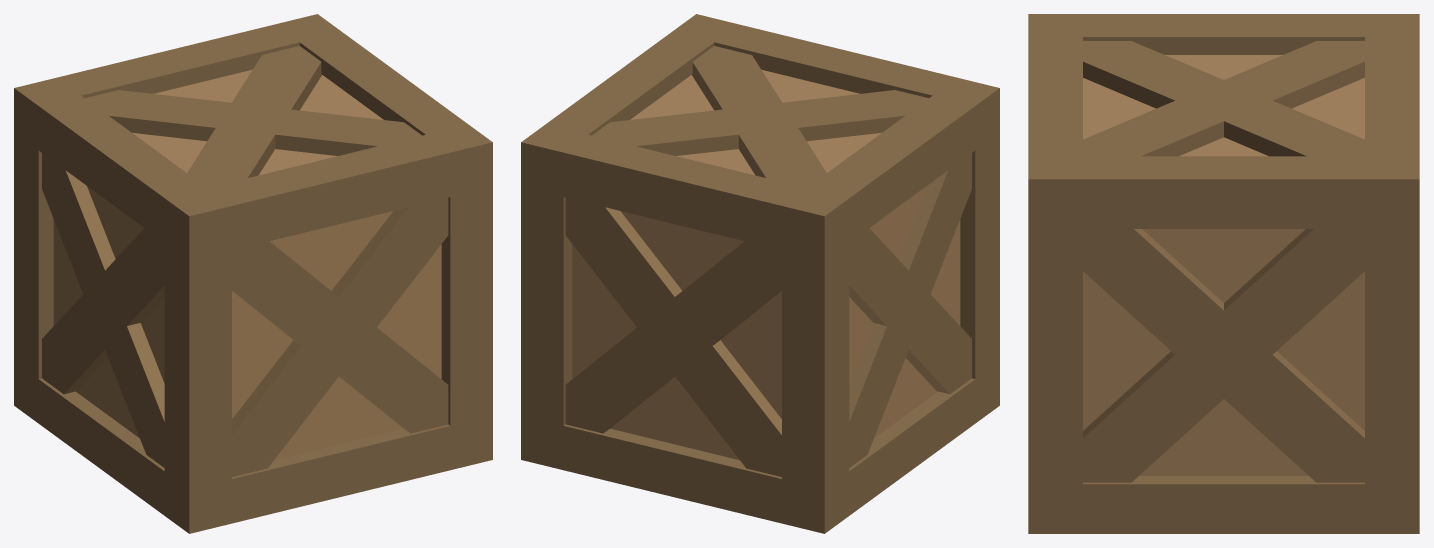
File: block.obj
The picture shows the model from 3 angles, left to right: view 1: azimuth 30°, elevation 25°; view 2: azimuth 150°, elevation 25°; view 3: azimuth 270°, elevation 25°; orthographic projection. The views are drawn at different scales.
Visible parts, largest first — view 1: Block_Crate; view 2: Block_Crate; view 3: Block_Crate.
Boxes of the visible parts, left/top/right/bottom form: Block_Crate: left=14, top=14, right=492, bottom=533; Block_Crate: left=521, top=14, right=999, bottom=533; Block_Crate: left=1028, top=14, right=1419, bottom=533.
Size of the model in its own units: 1 by 1 by 1.
Materials: 1 (1 with a texture image).
